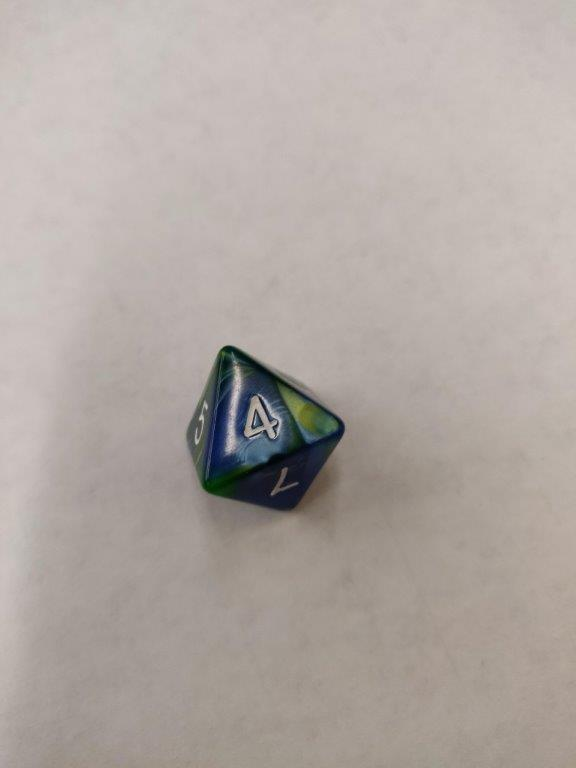d8-4: (185, 345, 350, 514)
